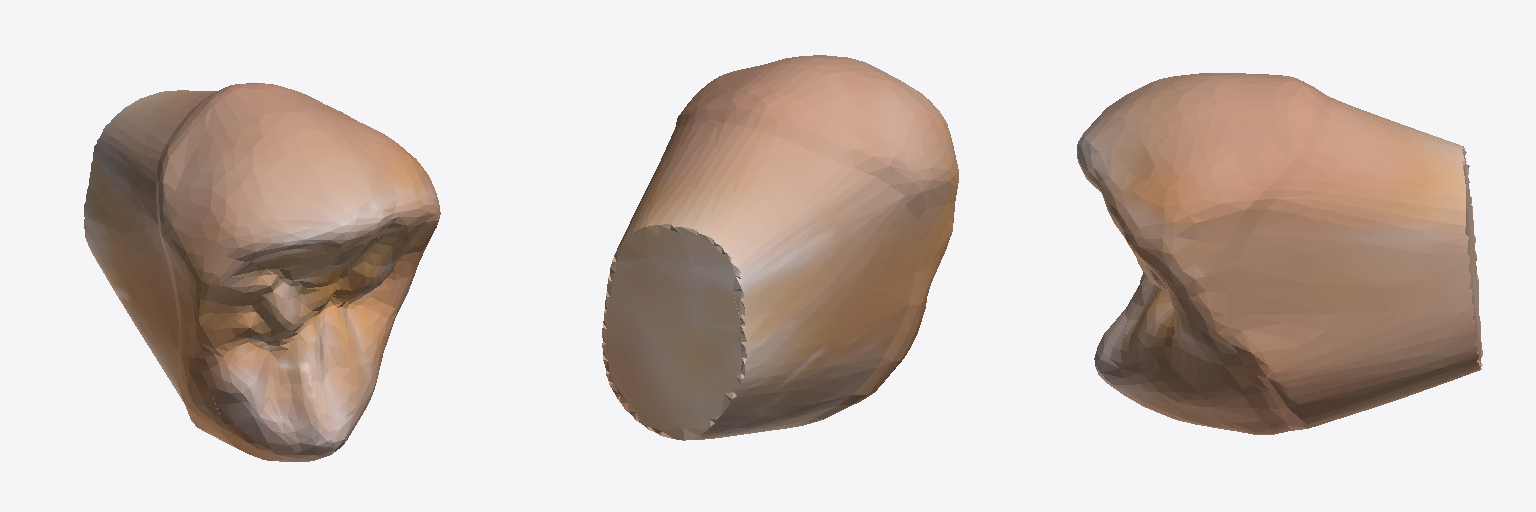
3 views of the same model, side by side, from view 1: azimuth 30°, elevation 25°; view 2: azimuth 150°, elevation 25°; view 3: azimuth 270°, elevation 25° (orthographic).
Bounding box in the file's own units: 7.13 × 9.09 × 9.97.
Materials: 1 (1 with a texture image).